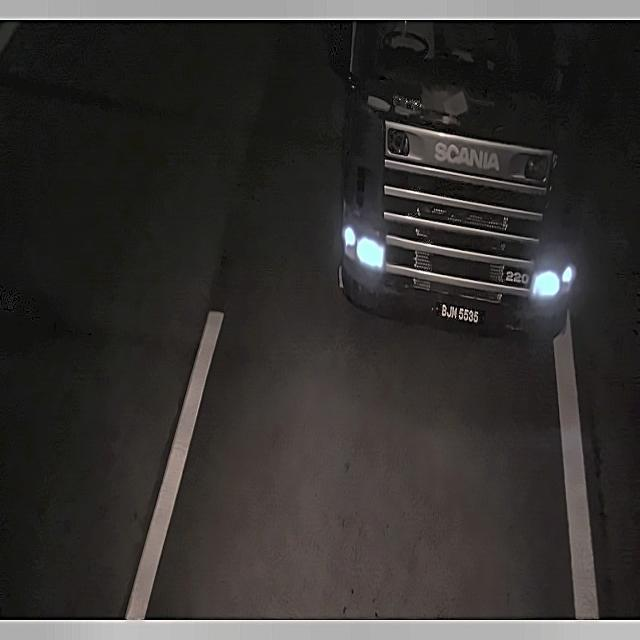car: (434, 297, 484, 335)
